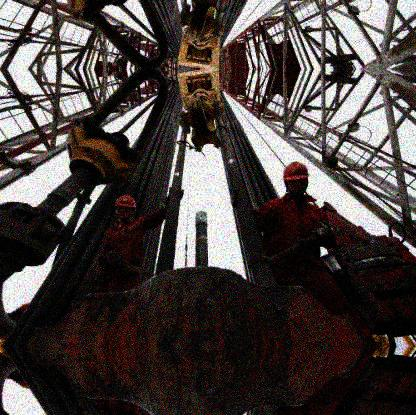helmet: (281, 161, 310, 195), (110, 192, 138, 220)
